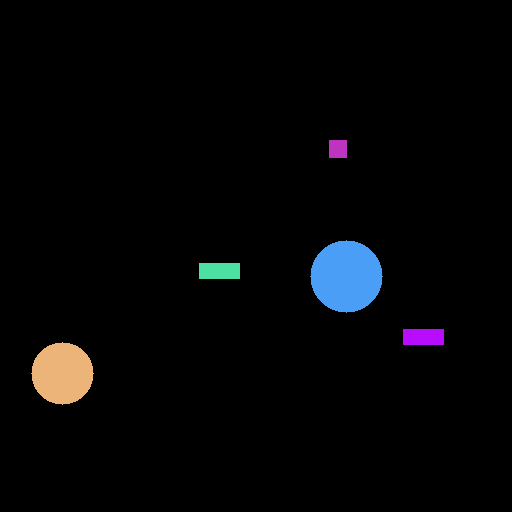circle: (309, 240, 384, 312), (30, 340, 92, 404)
side_rect: (399, 327, 447, 348), (196, 262, 241, 282)
square: (324, 137, 349, 162)
